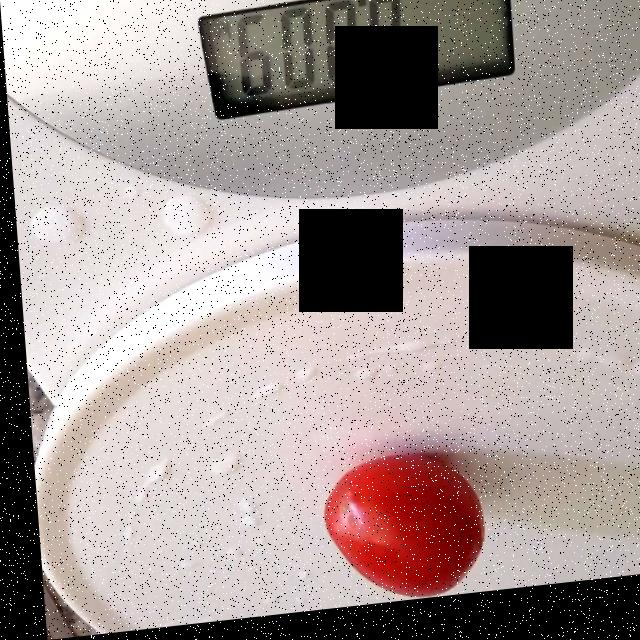tomato-raw: (320, 464, 474, 603)
